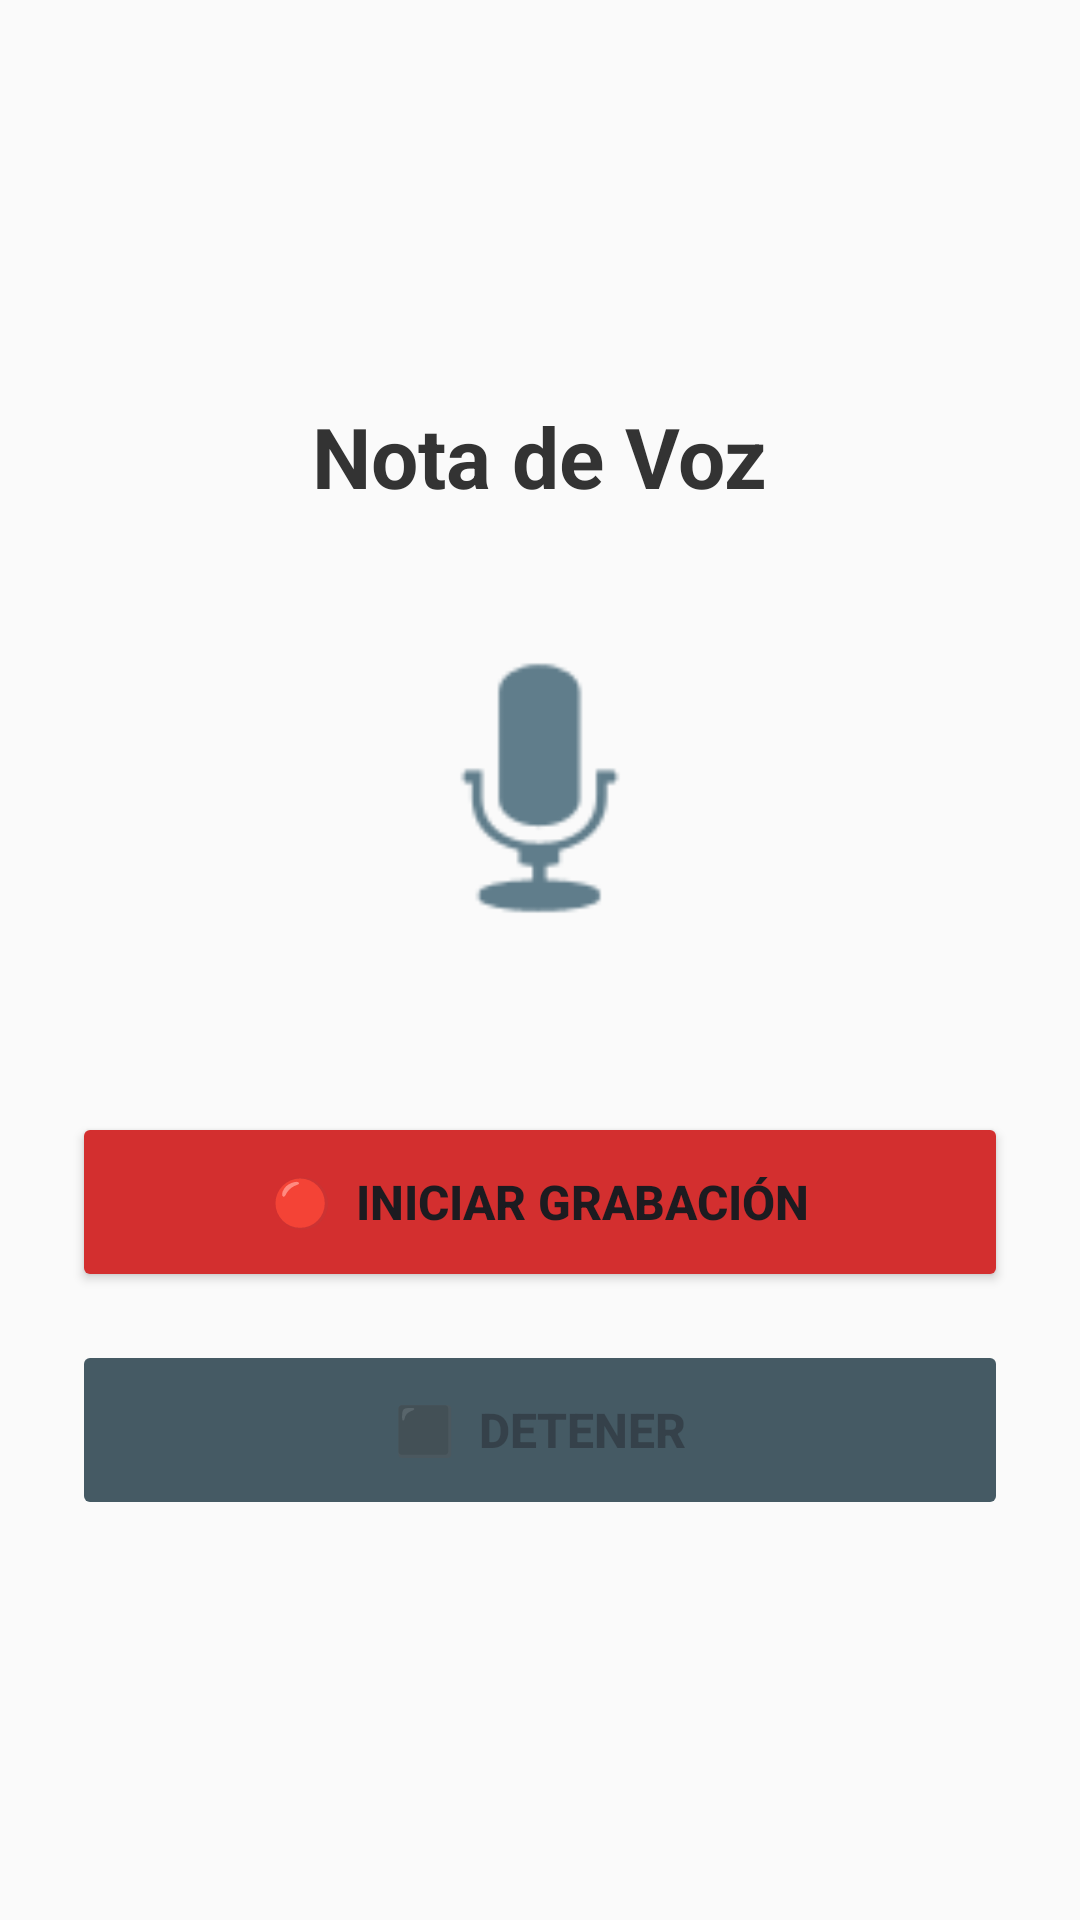

Where icons sit on this 1080×1920 app screen, as (x1, y1, x2, y2):
speak now: (461, 663, 619, 913)
